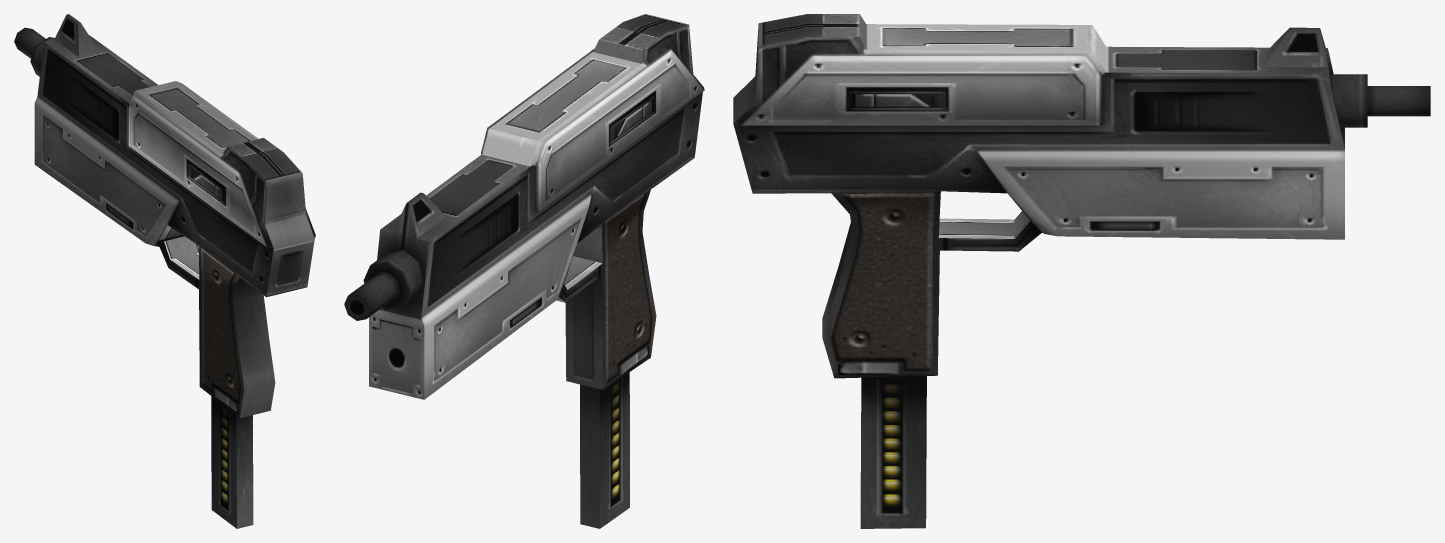
The model's file is uzi.FBX.
3 views of the same model, side by side, from view 1: azimuth 30°, elevation 25°; view 2: azimuth 150°, elevation 25°; view 3: azimuth 270°, elevation 25° (orthographic). The views are drawn at different scales.
Visible parts, largest first — view 1: Regroup03; view 2: Regroup03; view 3: Regroup03.
Boxes of the visible parts, <box> form: Regroup03: <box>14,14,315,528</box>; Regroup03: <box>344,14,704,528</box>; Regroup03: <box>733,14,1430,528</box>.
Bounding box in the file's own units: 1.27 × 9.52 × 12.08.
1 material, 1 textured.
